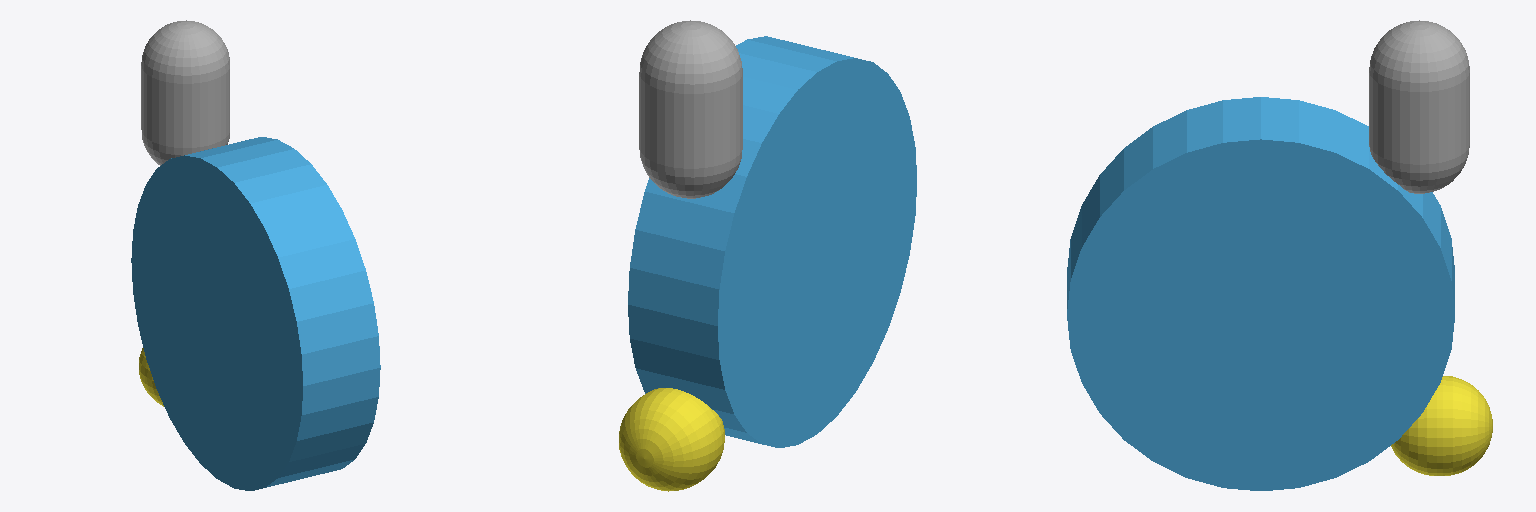
robot.urdf — DexterousHand:
<?xml version="1.0"?>
<robot name="DexterousHand">


    <link name="world"/>
    <joint name="world_to_palm" type="fixed">
        <parent link="world"/>
        <child link="palm"/>
        <origin xyz="0 0 0" rpy="0 0 0"/>
    </joint>
    <link name="palm">
        <inertial>
            <origin xyz="0 0 0.057" rpy="0 0 0"/>
            <mass value="0.30212892864"/>
            <inertia ixx="0.00049080844457568" ixy="0.0" ixz="0.0" iyy="0.00026746366246427523" iyz="0.0" izz="0.00026746366246427523"/>
        </inertial>
        <visual>
            <origin xyz="0 0 0.057" rpy="1.5708 0 1.5708"/>
            <geometry>
                <cylinder radius="0.057" length="0.0296"/>
            </geometry>
            <material name="default"/>
        </visual>
        <collision>
            <origin xyz="0 0 0.057" rpy="1.5708 0 1.5708"/>
            <geometry>
                <cylinder radius="0.057" length="0.0296"/>
            </geometry>
        </collision>
    </link>

    
    <joint name="thumb_joint1" type="revolute">
        <parent link="palm"/>
        <child link="thumb_base"/>
        <origin xyz="0.0029 0.0368 0.0157" rpy="-1.5708 -1.5708 0.0"/>
        <axis xyz="-1 0 0"/>
        <limit lower="-0.349" upper="2.094" effort="1.0" velocity="1.0"/>
    </joint>

    <link name="thumb_base"></link>

    <joint name="thumb_joint2" type="revolute">
        <parent link="thumb_base"/>
        <child link="thumb_proximal"/>
        <origin xyz="0.0 0.0 0.0" rpy="0.0 0.0 0.0"/>
        <axis xyz="0 0 1"/>
        <limit lower="-0.47" upper="2.443" effort="1.0" velocity="1.0"/>
    </joint>

    <link name="thumb_proximal">
        <inertial>
            <origin xyz="0 0 0.01565" rpy="0 0 0"/>
            <mass value="0.021538658803200002"/>
            <inertia ixx="2.9378910096388167e-06" ixy="0.0" ixz="0.0" 
            iyy="2.9378910096388167e-06" iyz="0.0" izz="2.358913912126464e-06"/>
        </inertial>
        <visual>
            <origin xyz="0 0 0.01565" rpy="0 0 0"/>
            <geometry>
                <cylinder radius="0.0148" length="0.0017000000000000001"/>
            </geometry>
            <material name="default"/>
        </visual>
        <visual>
            <origin xyz="0 0 0.0148" rpy="0 0 0"/>
            <geometry>
                <sphere radius="0.0148"/>
            </geometry>
            <material name="default"/>
        </visual>
        <visual>
            <origin xyz="0 0 0.0165" rpy="0 0 0"/>
            <geometry>
                <sphere radius="0.0148"/>
            </geometry>
            <material name="default"/>
        </visual>
        <collision>
            <origin xyz="0 0 0.01565" rpy="0 0 0"/>
            <geometry>
                <cylinder radius="0.0148" length="0.0017000000000000001"/>
            </geometry>
        </collision>
        <collision>
            <origin xyz="0 0 0.0148" rpy="0 0 0"/>
            <geometry>
                <sphere radius="0.0148"/>
            </geometry>
        </collision>
        <collision>
            <origin xyz="0 0 0.0165" rpy="0 0 0"/>
            <geometry>
                <sphere radius="0.0148"/>
            </geometry>
        </collision>
    </link>

    <joint name="thumb_joint3" type="revolute">
        <parent link="thumb_proximal"/>
        <child link="thumb_knuckle"/>
        <origin xyz="0.0 0.0 0.0" rpy="0.0 0.0 0.0"/>
        <axis xyz="1 0 0"/>
        <limit lower="0.0" upper="0.0" effort="1.0" velocity="1.0"/>
    </joint>

    <link name="thumb_knuckle"></link>

    <joint name="thumb_joint4" type="revolute">
        <parent link="thumb_knuckle"/>
        <child link="thumb_middle"/>
        <origin xyz="0 0 0" rpy="0 0 0"/> 
        <axis xyz="0 1 0"/>
        <limit lower="0.0" upper="0.0" effort="1.0" velocity="1.0"/>
    </joint>

    <link name="thumb_middle">
    </link>

    <joint name="thumb_joint5" type="revolute">
        <parent link="thumb_middle"/>
        <child link="thumb_distal"/>
        <origin xyz="0 0 0" rpy="0 0 0"/> 
        <axis xyz="0 1 0"/>
        <limit lower="0.0" upper="0.0" effort="1.0" velocity="1.0"/>
    </joint>

    <link name="thumb_distal">
    </link>

    
    <joint name="index_joint1" type="revolute">
        <parent link="palm"/>
        <child link="index_proximal"/>
        <origin xyz="0.0 0.0465 0.091" rpy="0.0 0.0 0.0"/>
        <axis xyz="0 1 0"/>
        <limit lower="-0.314" upper="2.23" effort="1.0" velocity="1.0"/>
    </joint>

    <link name="index_proximal">
        <inertial>
            <origin xyz="0 0 0.02655" rpy="0 0 0"/>
            <mass value="0.036540024998400006"/>
            <inertia ixx="1.058665009272394e-05" ixy="0.0" ixz="0.0" 
            iyy="1.058665009272394e-05" iyz="0.0" izz="4.001863537824769e-06"/>
        </inertial>
        <visual>
            <origin xyz="0 0 0.02655" rpy="0 0 0"/>
            <geometry>
                <cylinder radius="0.0148" length="0.0235"/>
            </geometry>
            <material name="default"/>
        </visual>
        <visual>
            <origin xyz="0 0 0.0148" rpy="0 0 0"/>
            <geometry>
                <sphere radius="0.0148"/>
            </geometry>
            <material name="default"/>
        </visual>
        <visual>
            <origin xyz="0 0 0.0383" rpy="0 0 0"/>
            <geometry>
                <sphere radius="0.0148"/>
            </geometry>
            <material name="default"/>
        </visual>
        <collision>
            <origin xyz="0 0 0.02655" rpy="0 0 0"/>
            <geometry>
                <cylinder radius="0.0148" length="0.0235"/>
            </geometry>
        </collision>
        <collision>
            <origin xyz="0 0 0.0148" rpy="0 0 0"/>
            <geometry>
                <sphere radius="0.0148"/>
            </geometry>
        </collision>
        <collision>
            <origin xyz="0 0 0.0383" rpy="0 0 0"/>
            <geometry>
                <sphere radius="0.0148"/>
            </geometry>
        </collision>
    </link>

    <joint name="index_joint2" type="revolute">
        <parent link="index_proximal"/>
        <child link="index_dummy"/>
        <origin xyz="0.0 0.0 0.038" rpy="0.0 0.0 0.0"/>
        <axis xyz="0 1 0"/>
        <limit lower="0.0" upper="0.0" effort="1.0" velocity="1.0"/>
    </joint>

    <link name="index_dummy"></link>

    <joint name="index_joint3" type="revolute">
        <parent link="index_dummy"/>
        <child link="index_middle"/>
        <origin xyz="0 0 0.015100000000000002" rpy="0 0 0"/>
        <axis xyz="0 1 0"/>
        <limit lower="0.0" upper="0.0" effort="1.0" velocity="1.0"/>
    </joint>

    <link name="index_middle">
    </link>

    <joint name="index_joint4" type="revolute">
        <parent link="index_middle"/>
        <child link="index_distal"/>
        <origin xyz="0 0 0" rpy="0 0 0"/> 
        <axis xyz="0 1 0"/>
        <limit lower="0.0" upper="0.0" effort="1.0" velocity="1.0"/>
    </joint>

    <link name="index_distal">
    </link>

    
    <joint name="middle_joint1" type="revolute">
        <parent link="palm"/>
        <child link="middle_proximal"/>
        <origin xyz="0.0 0.0 0.0" rpy="0.0 0.0 0.0"/>
        <axis xyz="1 0 0"/>
        <limit lower="0.0" upper="0.0" effort="1.0" velocity="1.0"/>
    </joint>

    <link name="middle_proximal">
    </link>

    <joint name="middle_joint2" type="revolute">
        <parent link="middle_proximal"/>
        <child link="middle_dummy"/>
        <origin xyz="0.0 0.0 0.0" rpy="0.0 0.0 0.0"/>
        <axis xyz="0 1 0"/>
        <limit lower="0.0" upper="0.0" effort="1.0" velocity="1.0"/>
    </joint>

    <link name="middle_dummy"></link>

    <joint name="middle_joint3" type="revolute">
        <parent link="middle_dummy"/>
        <child link="middle_middle"/>
        <origin xyz="0 0 0" rpy="0 0 0"/>
        <axis xyz="0 1 0"/>
        <limit lower="0.0" upper="0.0" effort="1.0" velocity="1.0"/>
    </joint>

    <link name="middle_middle">
    </link>

    <joint name="middle_joint4" type="revolute">
        <parent link="middle_middle"/>
        <child link="middle_distal"/>
        <origin xyz="0 0 0" rpy="0 0 0"/> 
        <axis xyz="0 1 0"/>
        <limit lower="0.0" upper="0.0" effort="1.0" velocity="1.0"/>
    </joint>

    <link name="middle_distal">
    </link>

    
    <joint name="ring_joint1" type="revolute">
        <parent link="palm"/>
        <child link="ring_proximal"/>
        <origin xyz="0.0 0.0 0.0" rpy="0.0 0.0 0.0"/>
        <axis xyz="1 0 0"/>
        <limit lower="0.0" upper="0.0" effort="1.0" velocity="1.0"/>
    </joint>

    <link name="ring_proximal">
    </link>

    <joint name="ring_joint2" type="revolute">
        <parent link="ring_proximal"/>
        <child link="ring_dummy"/>
        <origin xyz="0.0 0.0 0.0" rpy="0.0 0.0 0.0"/>
        <axis xyz="0 1 0"/>
        <limit lower="0.0" upper="0.0" effort="1.0" velocity="1.0"/>
    </joint>

    <link name="ring_dummy"></link>

    <joint name="ring_joint3" type="revolute">
        <parent link="ring_dummy"/>
        <child link="ring_middle"/>
        <origin xyz="0 0 0" rpy="0 0 0"/>
        <axis xyz="0 1 0"/>
        <limit lower="0.0" upper="0.0" effort="1.0" velocity="1.0"/>
    </joint>

    <link name="ring_middle">
    </link>

    <joint name="ring_joint4" type="revolute">
        <parent link="ring_middle"/>
        <child link="ring_distal"/>
        <origin xyz="0 0 0" rpy="0 0 0"/> 
        <axis xyz="0 1 0"/>
        <limit lower="0.0" upper="0.0" effort="1.0" velocity="1.0"/>
    </joint>

    <link name="ring_distal">
    </link>

    
    <joint name="little_joint0" type="revolute">
        <parent link="palm"/>
        <child link="little_base"/>
        <origin xyz="0.0 0.0 0.0" rpy="0.0 0.0 0.0"/>
        <axis xyz="0 1 0"/>
        <limit lower="0.0" upper="0.0" effort="1.0" velocity="1.0"/>
    </joint>

    <link name="little_base"></link>

    <joint name="little_joint1" type="revolute">
        <parent link="little_base"/>
        <child link="little_proximal"/>
        <origin xyz="0.0 0.0 0.0" rpy="-0.0 -0.0 -0.0"/>
        <axis xyz="1 0 0"/>
        <limit lower="0.0" upper="0.0" effort="1.0" velocity="1.0"/>
    </joint>

    <link name="little_proximal">
    </link>

    <joint name="little_joint2" type="revolute">
        <parent link="little_proximal"/>
        <child link="little_dummy"/>
        <origin xyz="0.0 0.0 0.0" rpy="0.0 0.0 0.0"/>
        <axis xyz="0 1 0"/>
        <limit lower="0.0" upper="0.0" effort="1.0" velocity="1.0"/>
    </joint>

    <link name="little_dummy"></link>

    <joint name="little_joint3" type="revolute">
        <parent link="little_dummy"/>
        <child link="little_middle"/>
        <origin xyz="0 0 0" rpy="0 0 0"/>
        <axis xyz="0 1 0"/>
        <limit lower="0.0" upper="0.0" effort="1.0" velocity="1.0"/>
    </joint>

    <link name="little_middle">
    </link>

    <joint name="little_joint4" type="revolute">
        <parent link="little_middle"/>
        <child link="little_distal"/>
        <origin xyz="0 0 0" rpy="0 0 0"/>
        <axis xyz="0 1 0"/>
        <limit lower="0.0" upper="0.0" effort="1.0" velocity="1.0"/>
    </joint>

    <link name="little_distal">
    </link>

</robot>

--- Render facts (derived) ---
The picture shows the robot from 3 angles, left to right: view 1: azimuth 30°, elevation 25°; view 2: azimuth 150°, elevation 25°; view 3: azimuth 270°, elevation 25°; orthographic projection.
Robot: DexterousHand — 24 links, 23 joints (22 revolute, 1 fixed); root link world; default pose: all joints at 0.
Visible links, largest first — view 1: palm, index_proximal; view 2: palm, index_proximal, thumb_proximal; view 3: palm, index_proximal, thumb_proximal.
Link boxes in pixels (box(x1,y1,x2,y2)): palm: box(131, 137, 380, 490); index_proximal: box(141, 20, 229, 165); palm: box(628, 36, 916, 447); index_proximal: box(639, 20, 742, 198); thumb_proximal: box(619, 388, 724, 491); palm: box(1067, 97, 1454, 490); index_proximal: box(1369, 20, 1469, 193); thumb_proximal: box(1391, 376, 1492, 475).
Size in the robot's own frame: 0.0325 by 0.1251 by 0.1441 metres.
Geometry: primitives only (box / cylinder / sphere), no mesh files.
